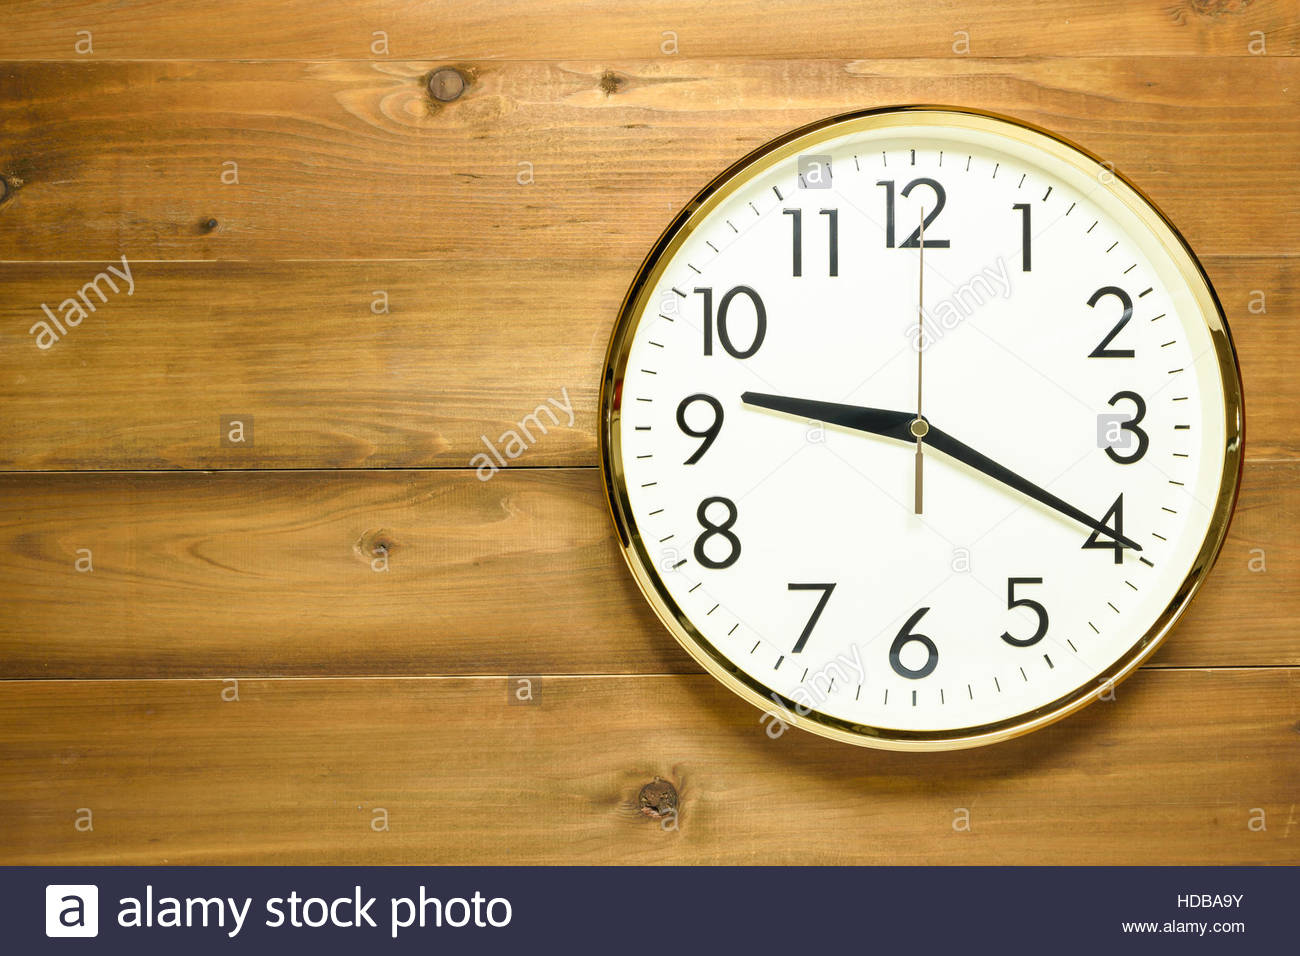clock: (622, 135, 1227, 736)
